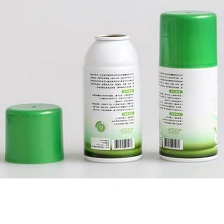aerosol_cans: (153, 4, 222, 165), (79, 27, 145, 165)
